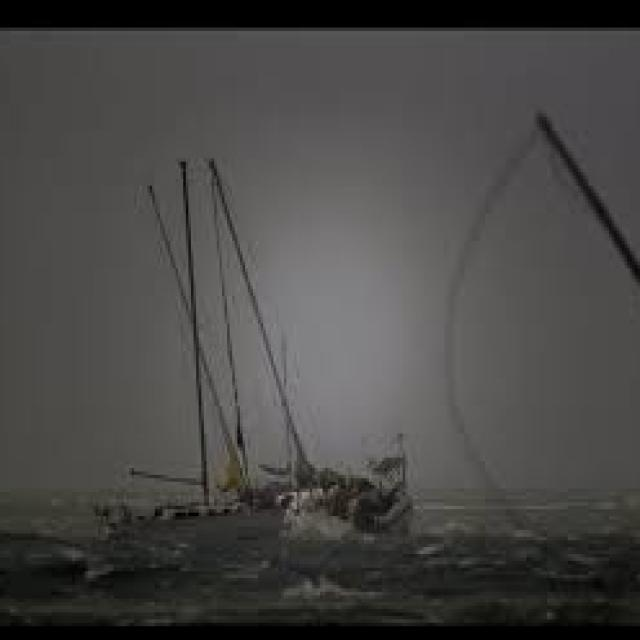fishing boat: (112, 121, 432, 549)
